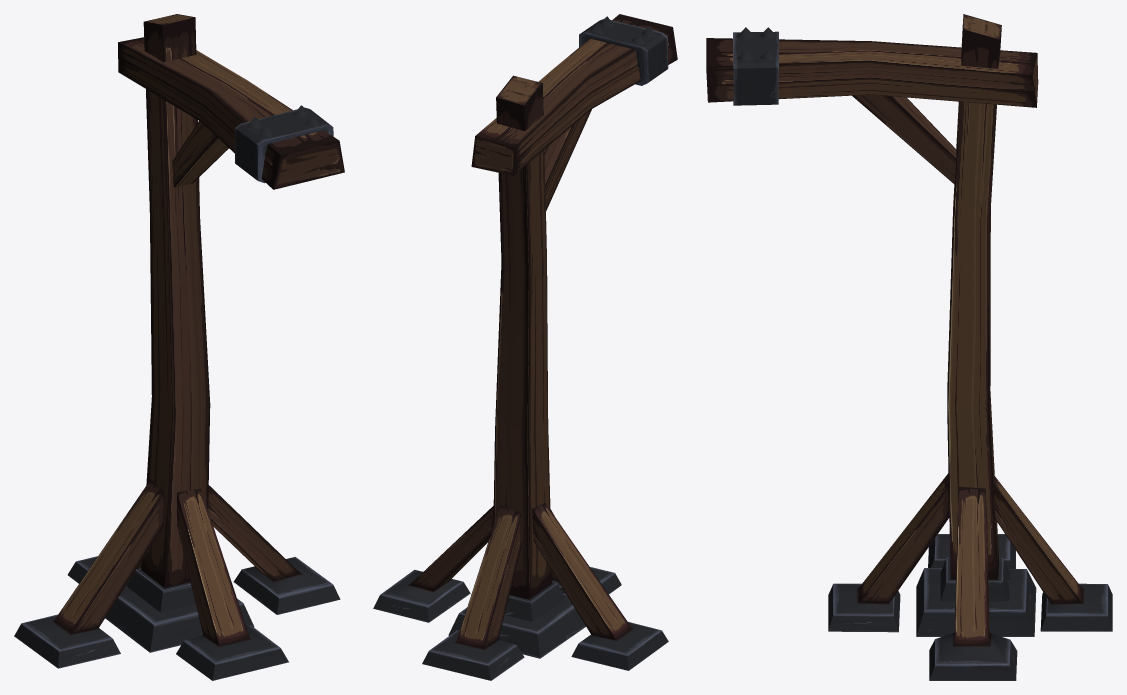
File: SM_PROP_cage_holder_dungeon.fbx
3 views of the same model, side by side, from view 1: azimuth 30°, elevation 25°; view 2: azimuth 150°, elevation 25°; view 3: azimuth 270°, elevation 25° (orthographic). The views are drawn at different scales.
Visible parts, largest first — view 1: SM_PROP_cage_holder_dungeon; view 2: SM_PROP_cage_holder_dungeon; view 3: SM_PROP_cage_holder_dungeon.
Boxes of the visible parts, <box> form: SM_PROP_cage_holder_dungeon: <box>14,14,344,680</box>; SM_PROP_cage_holder_dungeon: <box>373,14,677,680</box>; SM_PROP_cage_holder_dungeon: <box>706,14,1112,680</box>.
Bounding box in the file's own units: 309 × 629 × 393.
